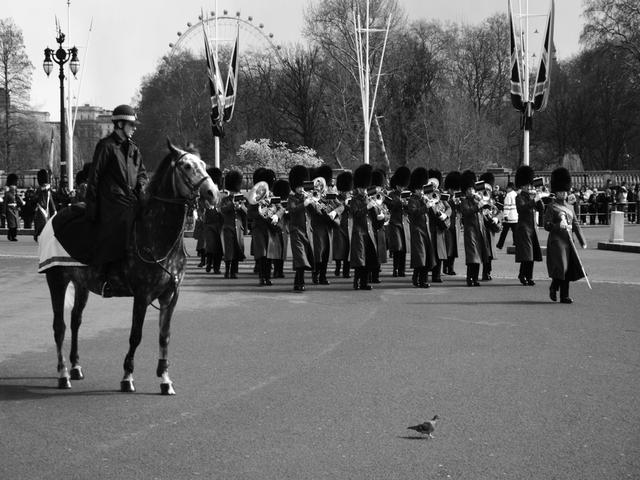horse: (85, 132, 224, 418)
